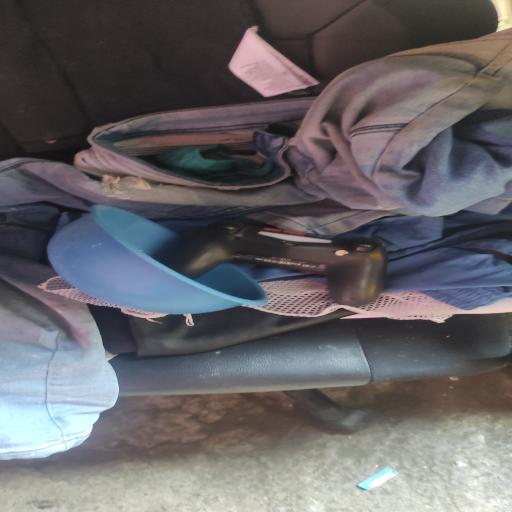ControlPlay4: (167, 219, 387, 306)
